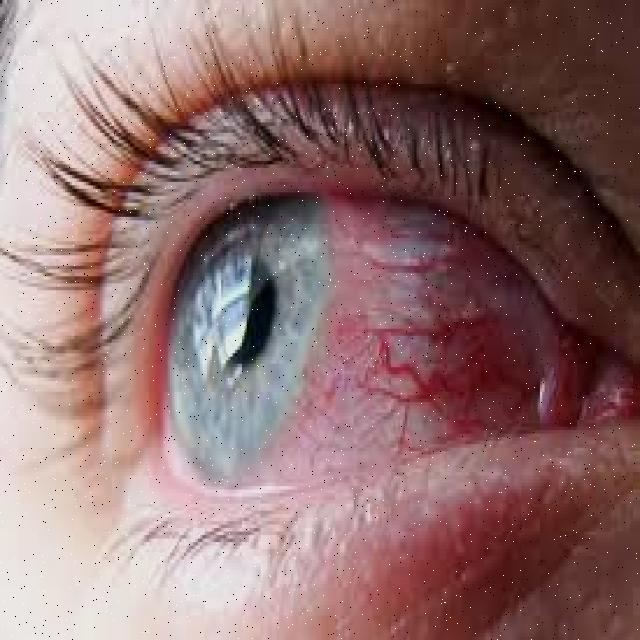Conjunctivitis: (198, 174, 630, 483)
